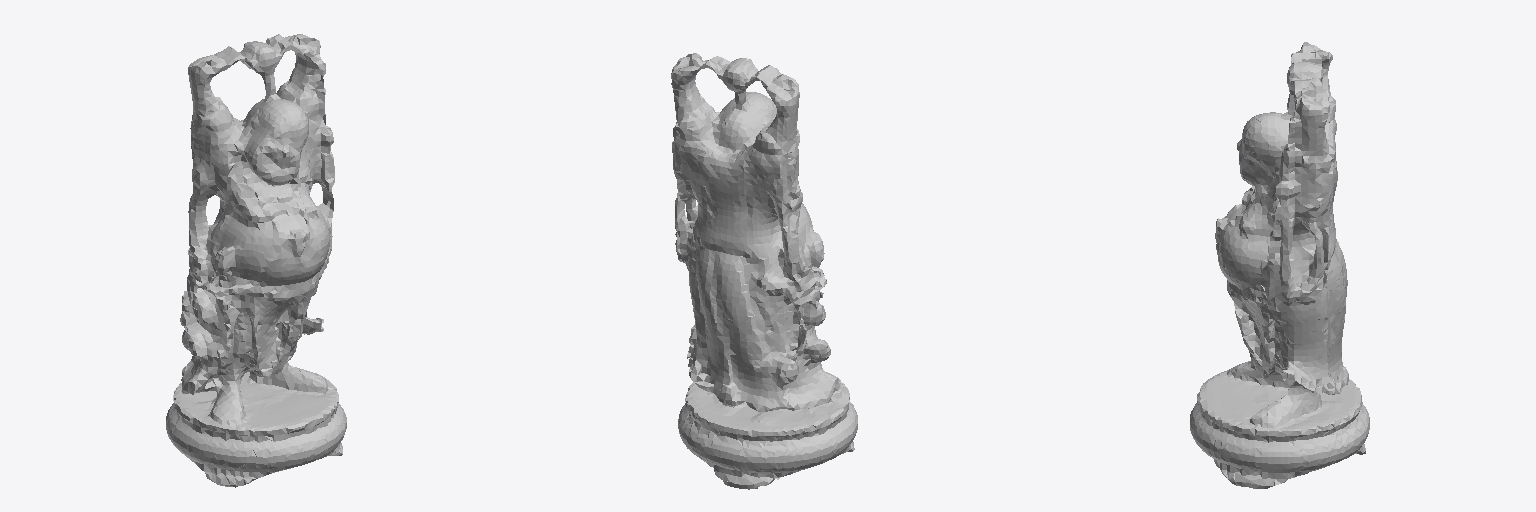
File: happybudda_low.obj
3 renders of one model, left to right at view 1: azimuth 30°, elevation 25°; view 2: azimuth 150°, elevation 25°; view 3: azimuth 270°, elevation 25°, orthographic.
Parts seen in each view (by area): view 1: Mesh; view 2: Mesh; view 3: Mesh.
Part boxes in pixels (x1,y1,x2,y2): Mesh: (166,34,346,487); Mesh: (671,53,857,489); Mesh: (1190,42,1369,488).
Size of the model in its own units: 0.9496 by 2.32 by 0.9503.